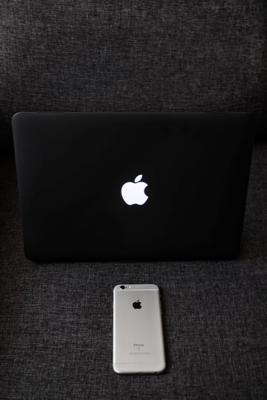Mobile Phone: (111, 282, 166, 374)
